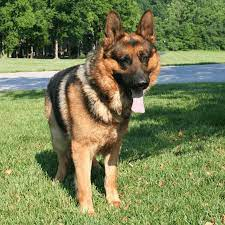dog: (47, 9, 163, 203)
